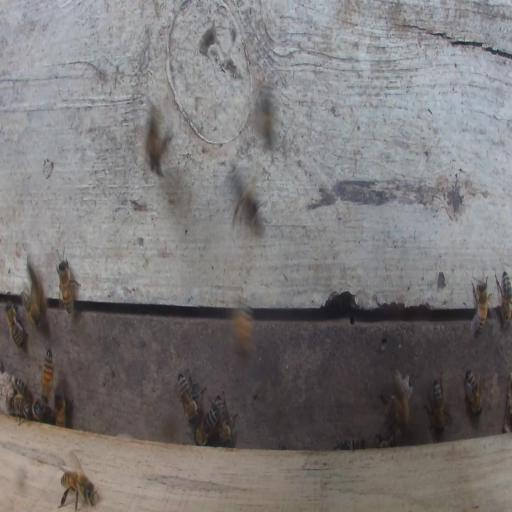nonpollenbee: (145, 106, 171, 178), (382, 368, 412, 427), (58, 466, 97, 510), (56, 247, 79, 317), (425, 375, 452, 434), (231, 183, 263, 229), (215, 391, 237, 445), (178, 373, 200, 424), (195, 399, 219, 445), (5, 301, 26, 348), (464, 368, 484, 416), (20, 289, 42, 326), (498, 269, 512, 325), (474, 281, 488, 335), (9, 393, 32, 422), (41, 347, 53, 400), (375, 428, 401, 447), (54, 391, 66, 427), (32, 397, 47, 422), (15, 377, 28, 398)
